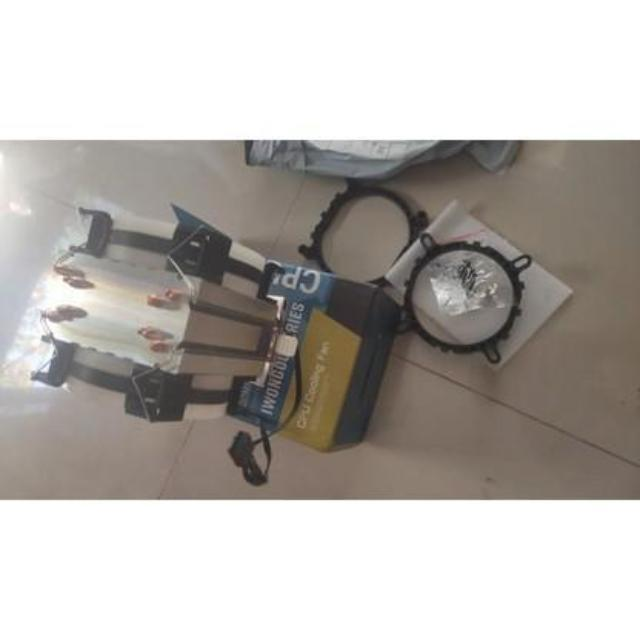CPU_Fan: (26, 186, 282, 443)
